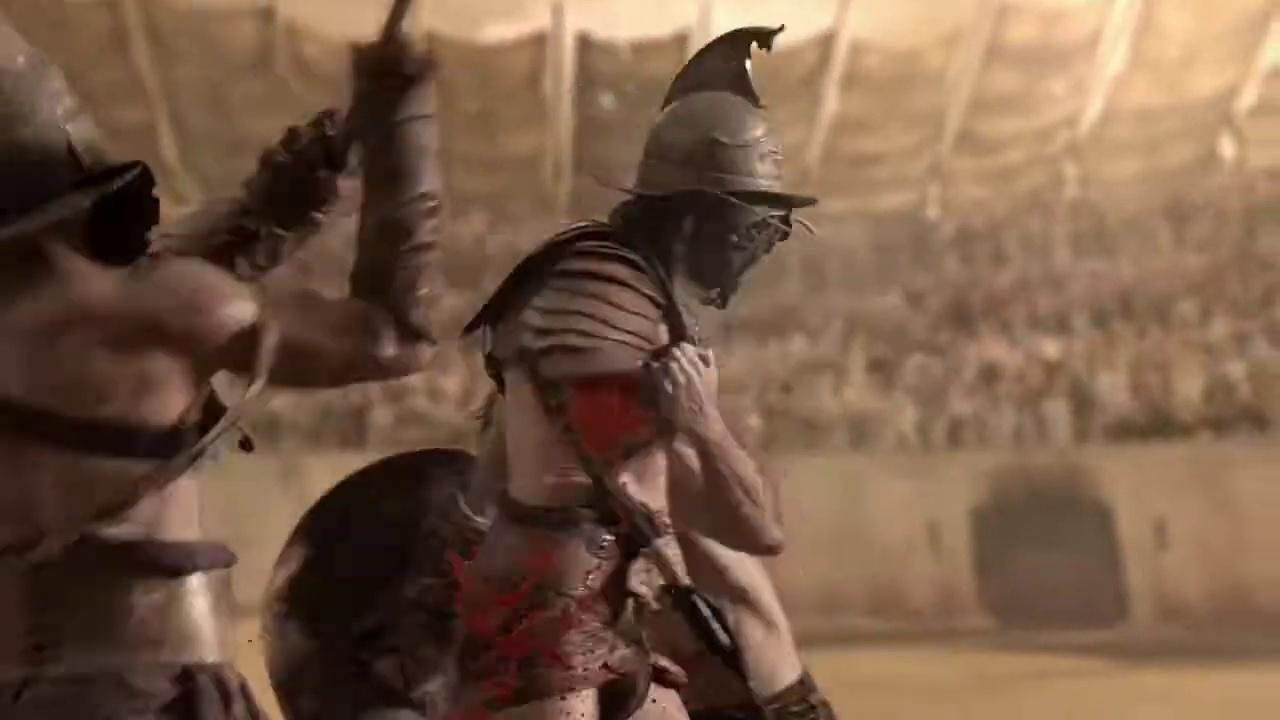Fire: (454, 550, 648, 719), (571, 375, 660, 464)
